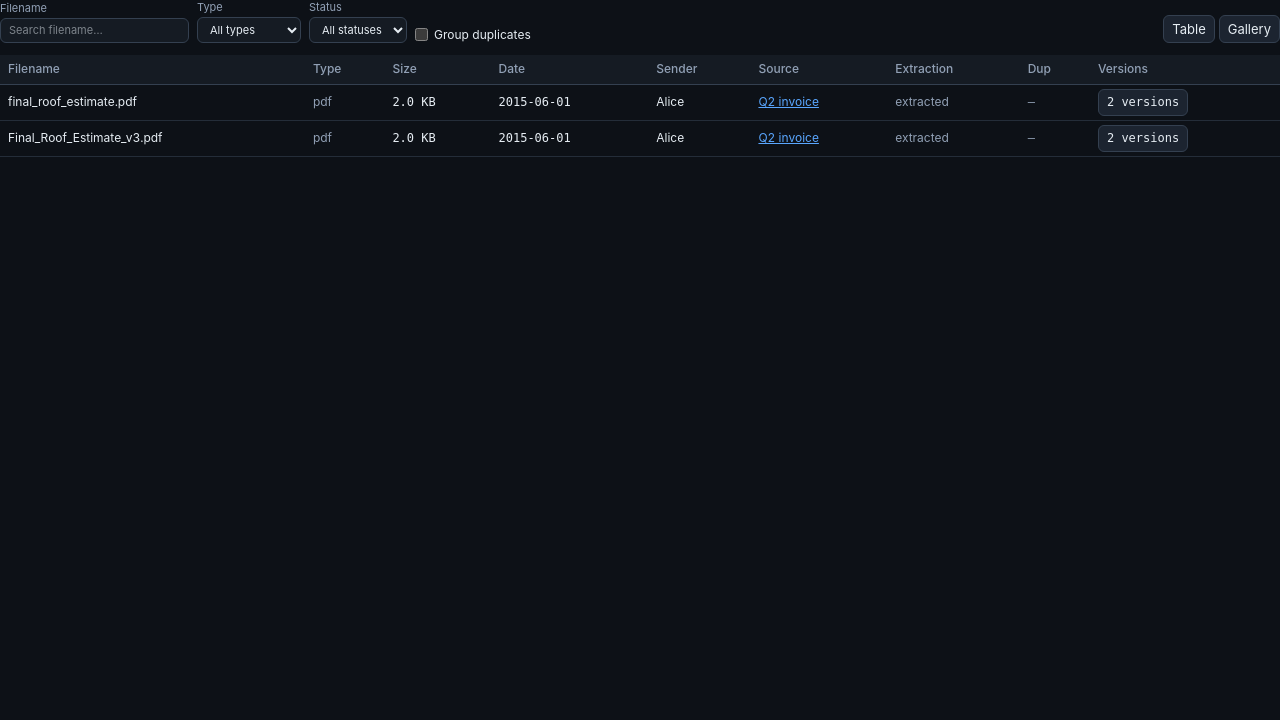
Test: FilesPage › family badge opens panel; compare shows text-prefixed diff kinds
Expected: the row with test id "file-row-att_v1" is shown, x1=0 y1=85 x2=1279 y2=120
Click the button with test id "family-badge-att_v1": coordinates (1143, 103) x1=1098 y1=89 x2=1188 y2=116
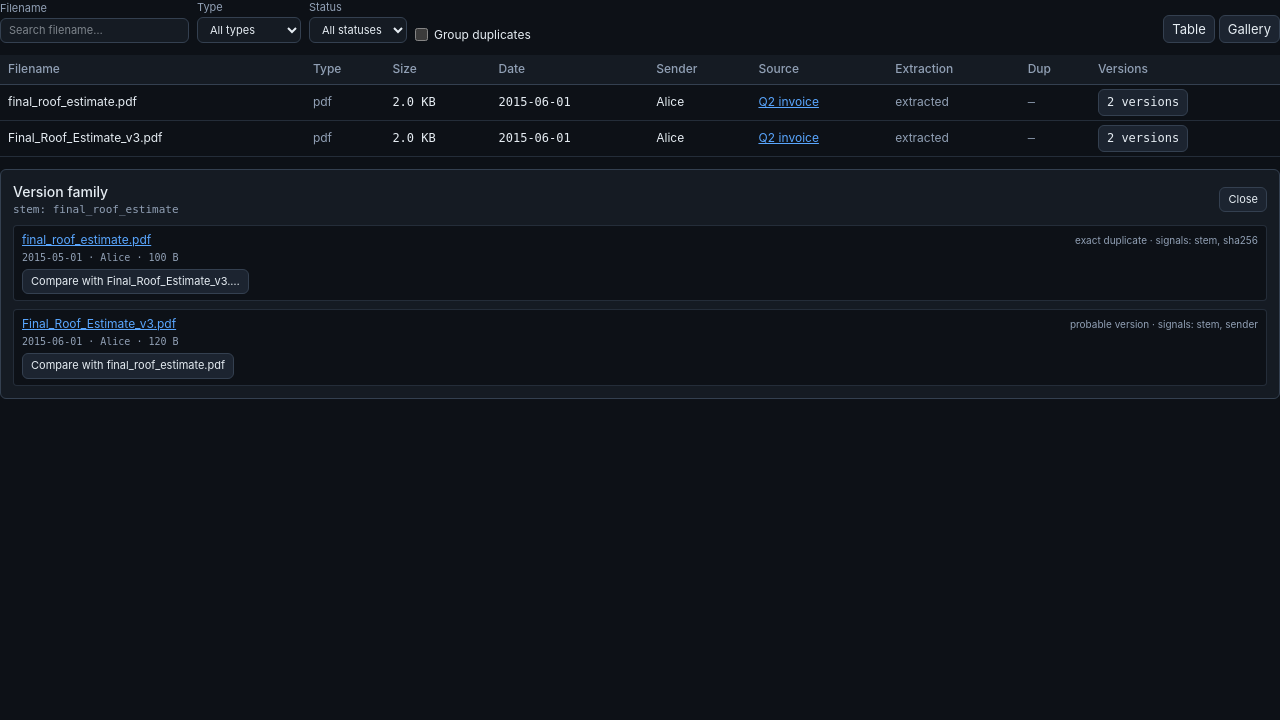
Expected: the element with test id "family-panel" is shown, x1=0 y1=169 x2=1279 y2=399
Expected: the text with test id "family-stem" shows "final_roof_estimate", x1=53 y1=203 x2=179 y2=216
Expected: the text with test id "family-confidence-att_v2" shows "probable version", x1=1070 y1=318 x2=1149 y2=330
Click the button with test id "family-compare-att_v1-att_v2": coordinates (135, 282) x1=22 y1=269 x2=249 y2=294
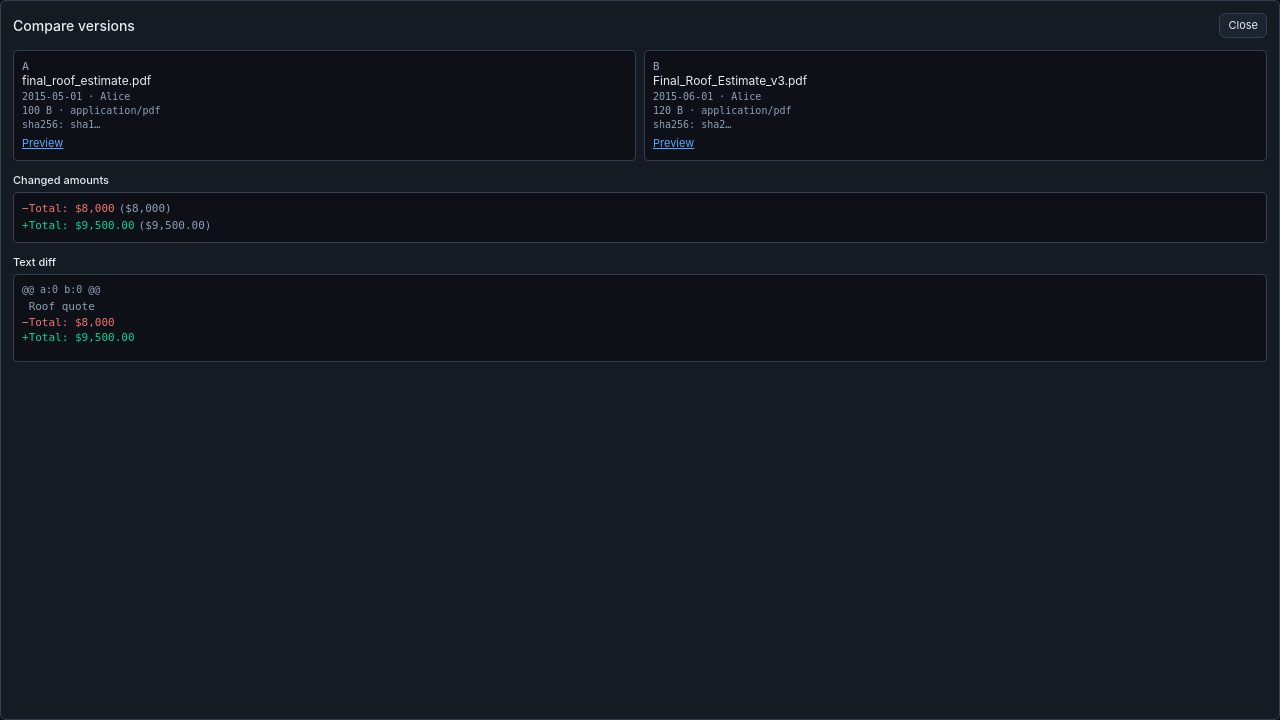
Expected: the element with test id "version-compare-view" is shown
Expected: the element with test id "compare-metadata" is shown, x1=13 y1=50 x2=1267 y2=161
Expected: the element with test id "compare-amount-changes" shows "$8,000", x1=125 y1=202 x2=165 y2=215
